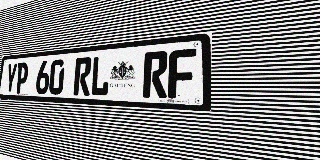0: (48, 59, 65, 95)
6: (35, 60, 51, 94)
F: (168, 48, 196, 99)
L: (90, 55, 111, 96)
P: (15, 62, 29, 94)
R: (142, 51, 168, 98), (73, 57, 92, 96)
Y: (5, 63, 18, 93)
